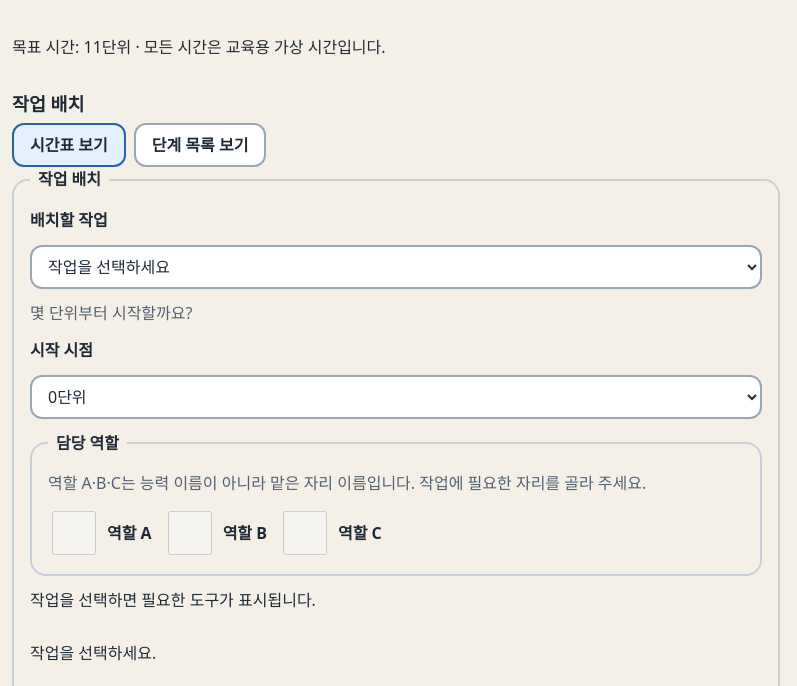
Test case: keyboard-first schedule editor › keeps timeline and step list semantically equivalent
This screenshot has width=797, height=686.
Click the button "단계 목록 보기".
click(200, 145)  # box 134,123 -> 266,167
(page scrolled)
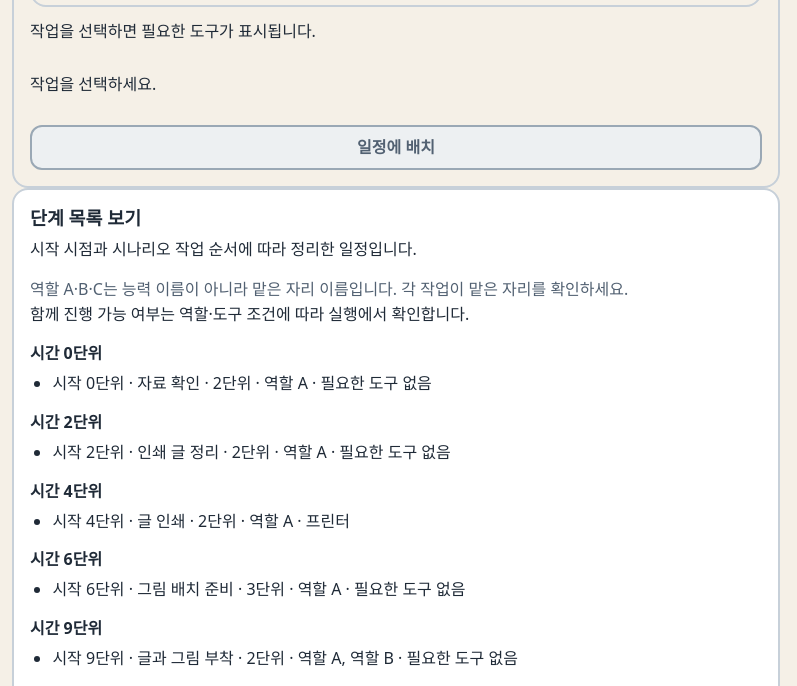
Check: the heading "시간 0단위" is shown, box 30,342 -> 102,364
Check: the text "함께 진행 가능 여부는 역할·도구 조건에 따라 실행에서 확인합니다." is shown, box 30,303 -> 469,325
